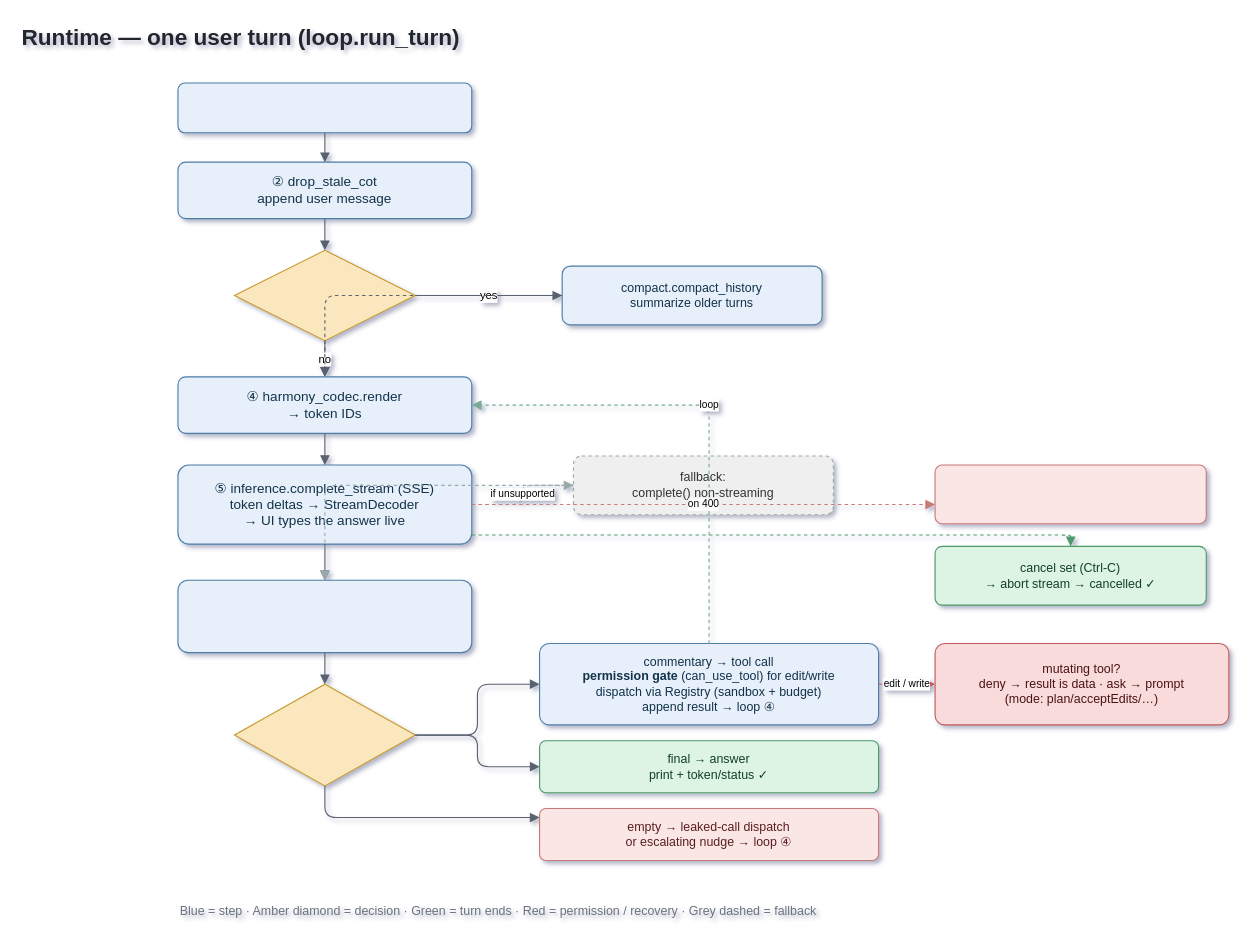
Some shapes in this 1255 by 945 pixel diagram are drawn without their labels. Each missing label, with the box of its shape:
ContextOverflow (400) → drop reasoning → retry ④: (934, 464, 1206, 524)
① User question: (177, 82, 472, 133)
③ near context window?: (233, 249, 415, 341)
⑥ harmony_codec.parse (+ malformed-header salvage) → channel messages: (177, 579, 472, 653)
⑦ which channel?: (233, 683, 415, 786)
